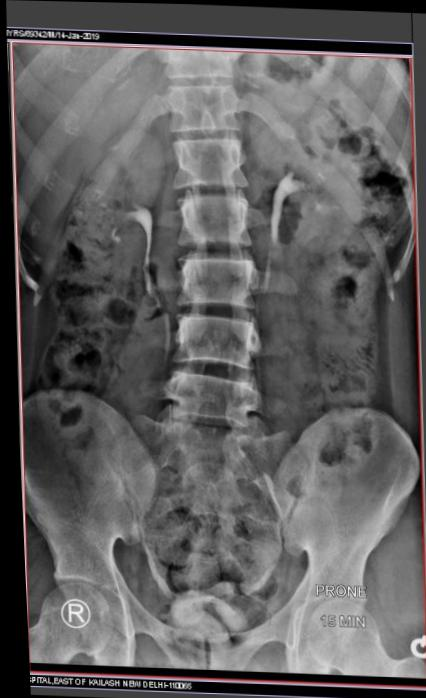bladder: (136, 545, 266, 649)
left kidney: (259, 102, 380, 271)
right kidney: (34, 126, 174, 343)
vertebrae: (172, 190, 253, 249)
